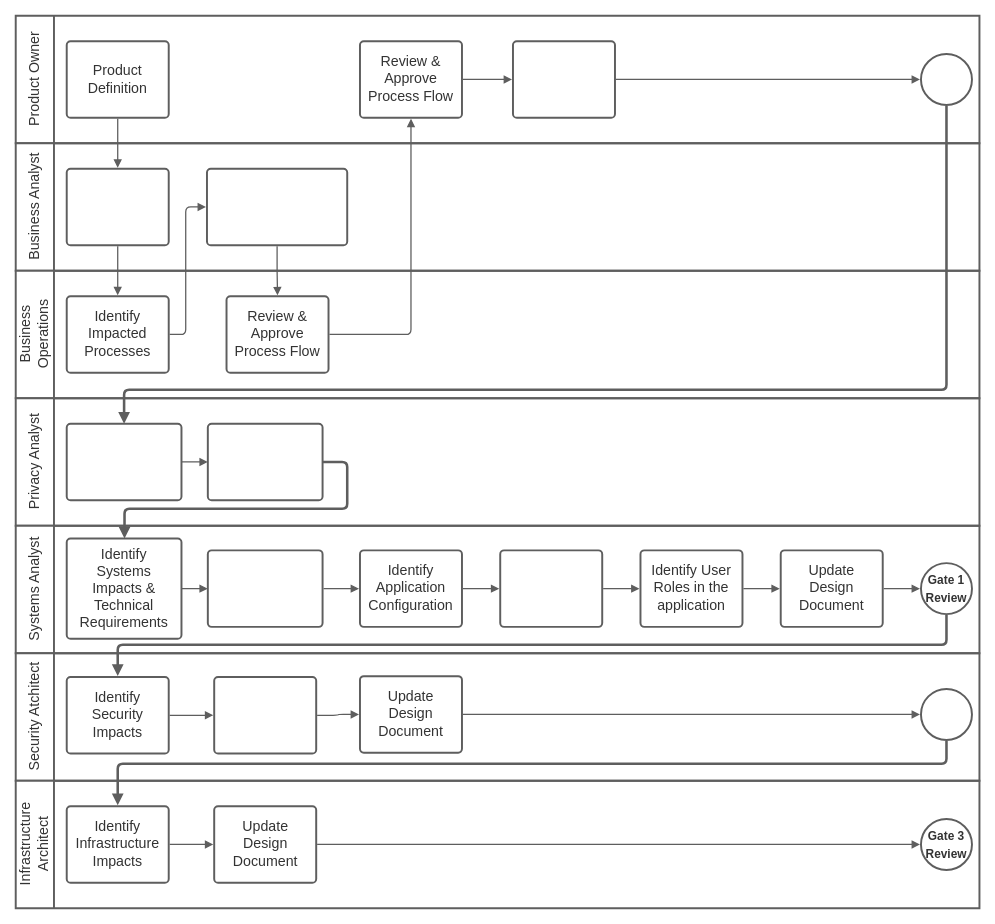
Image size: 995x924. Some labels were removed from this diagram. The centre of each missing label's shape, as x and y in pixels:
Business Requirements: (117,206)
Conduct a Data Retention Assessment: (264,461)
Conduct a Privacy Impact Assessment: (123,461)
Conduct a Threat & Risk Assessment: (265,715)
Create Information Flow Diagrams: (264,588)
Create New Process or Update Existing Process Flow: (277,206)
Create/Update Design Document: (564,79)
Gate 0 Review: (946,79)
Gate 2 Review: (946,714)
Identify Systems Configuration: (551,588)
